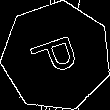P_E: (26, 30, 87, 82)
